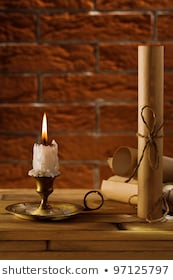Fire: (39, 111, 51, 144)
